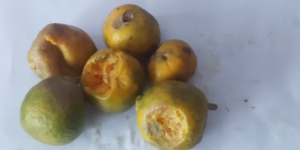BAD: (139, 74, 204, 150), (18, 72, 81, 148), (24, 22, 100, 81), (85, 40, 143, 108), (106, 3, 161, 57), (146, 39, 195, 85)
